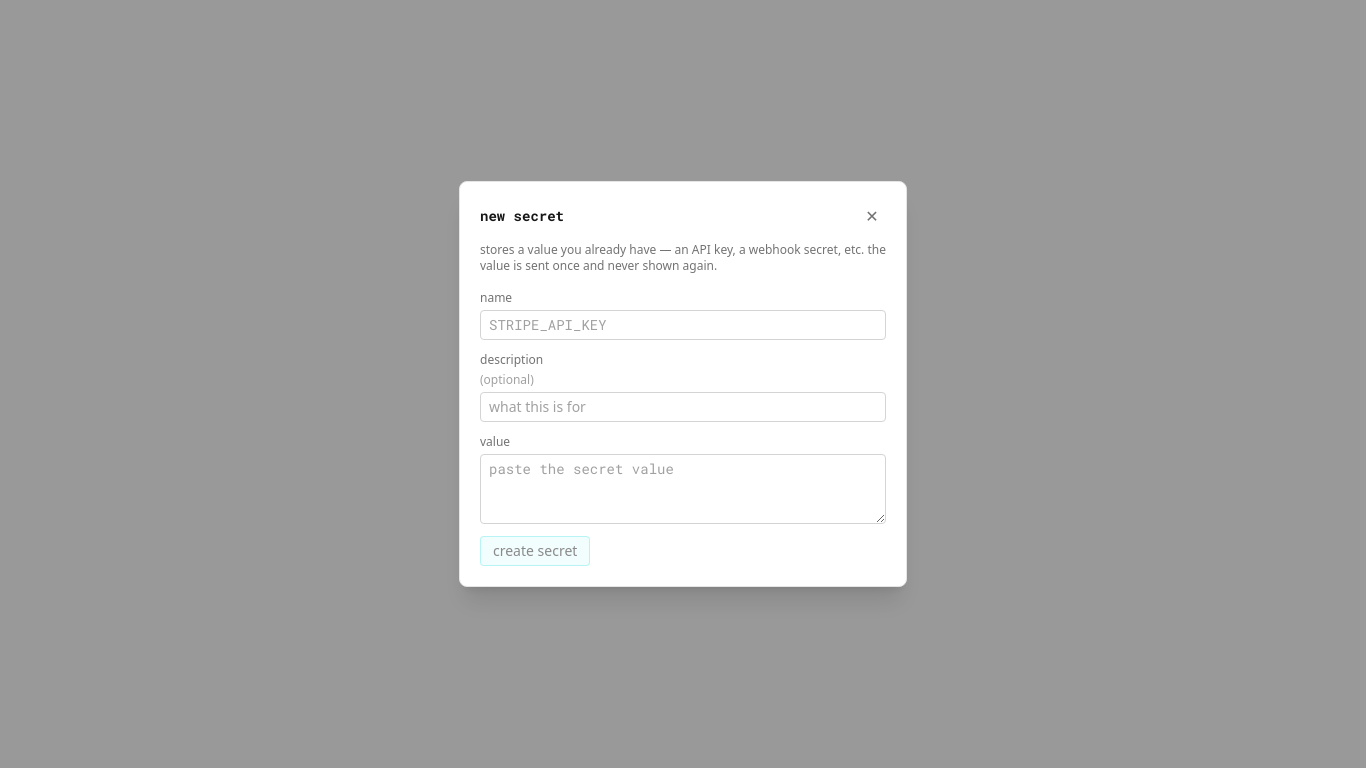
Test: NewSecretModal submit › surfaces a duplicate-name error inline and stays open
The image size is (1366, 768).
Type "DUP" into the field labelled "name" at (683, 325), box [480,310,886,340]
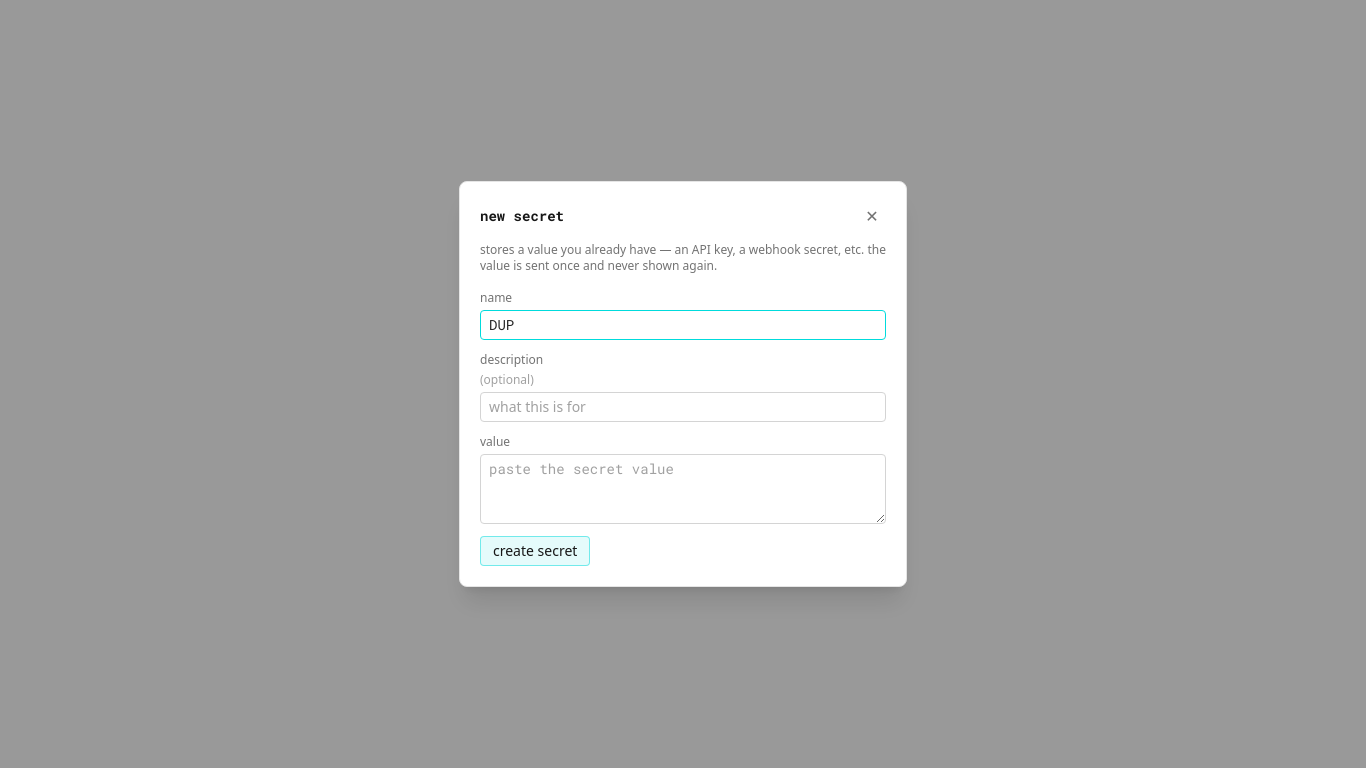
Type "v" into the text box labelled "value" at (683, 489), box [480,454,886,524]
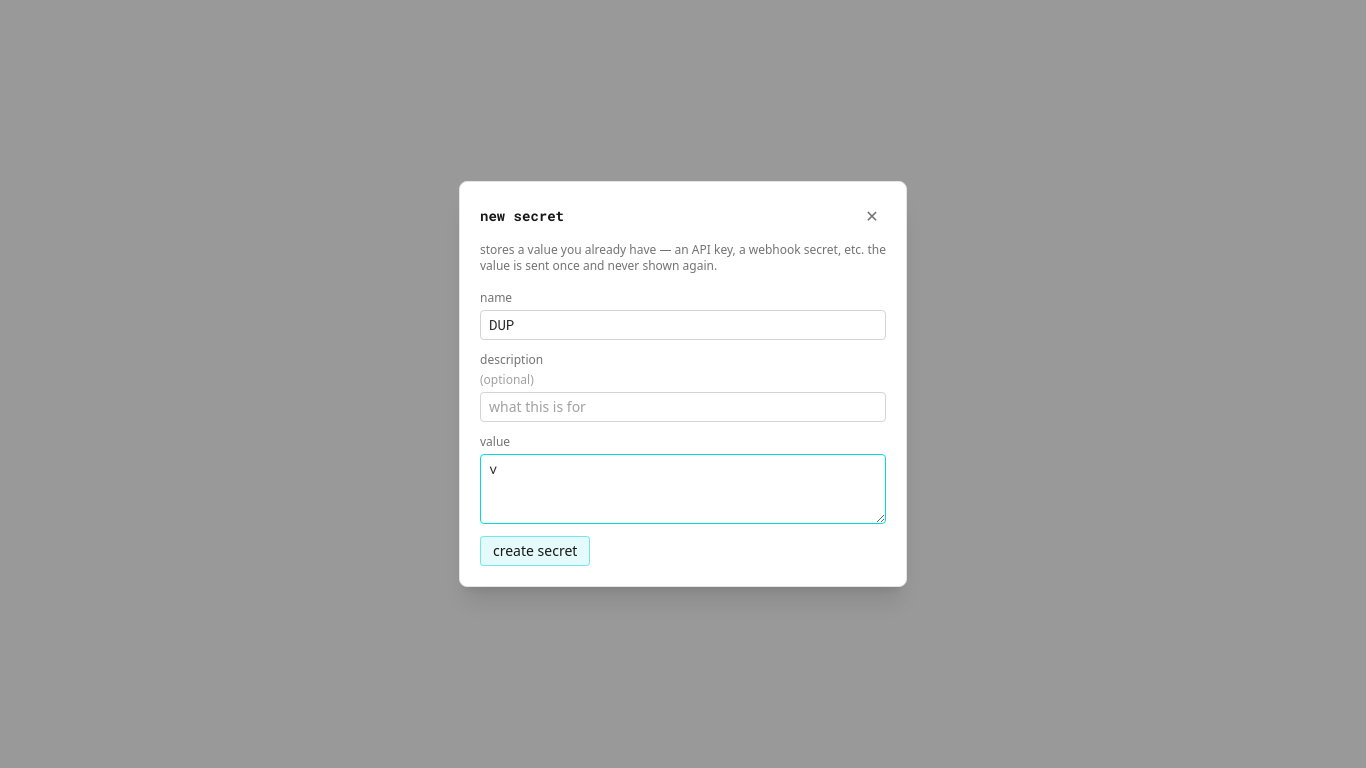
Click the button "create secret" at (535, 551), box [480,536,590,566]
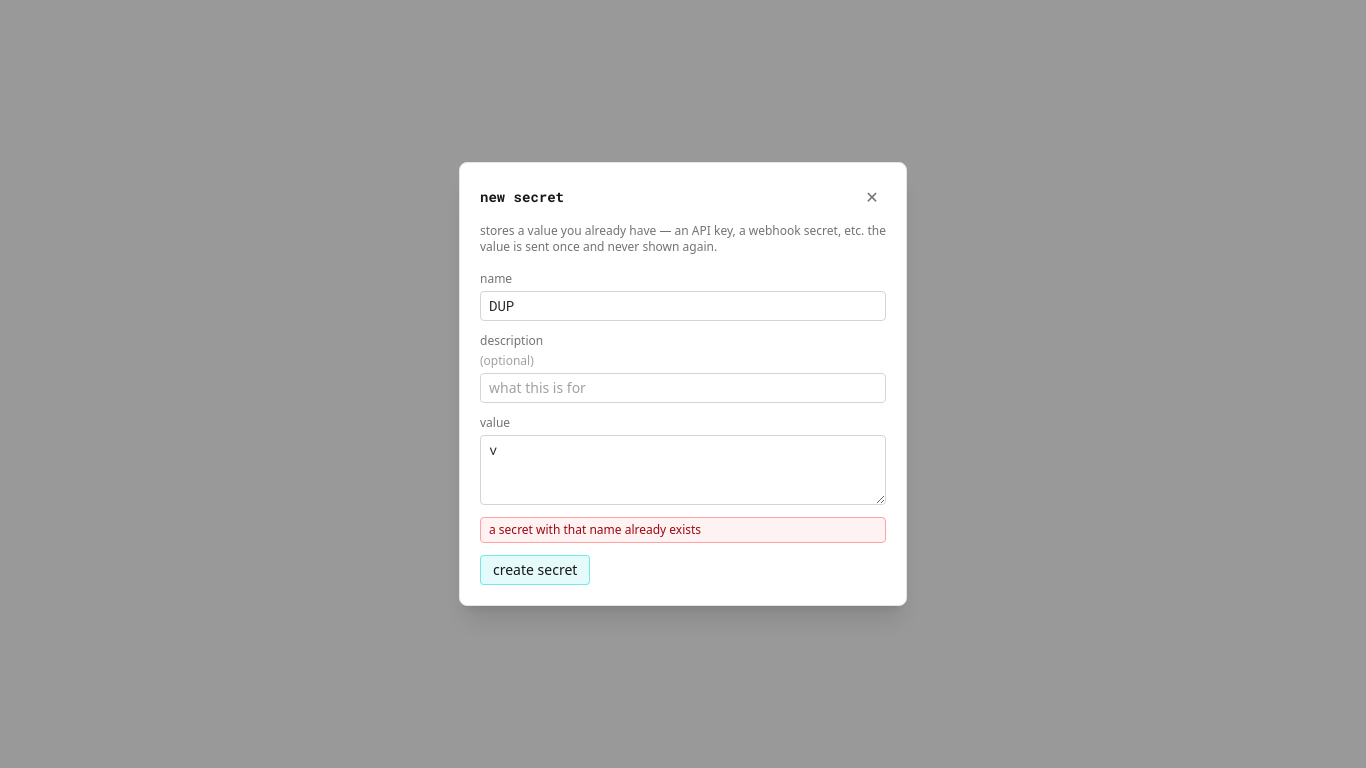
Expected: the text "a secret with that name already exists" is shown, [480,517,886,543]
